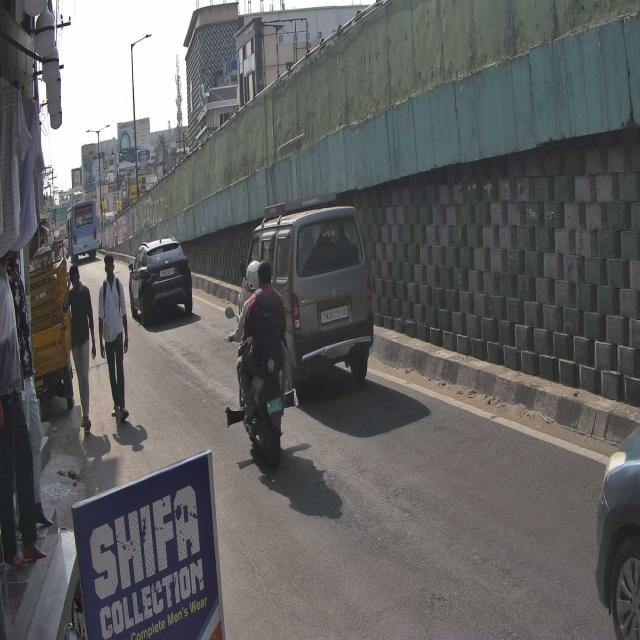double_rider: (223, 256, 290, 472)
